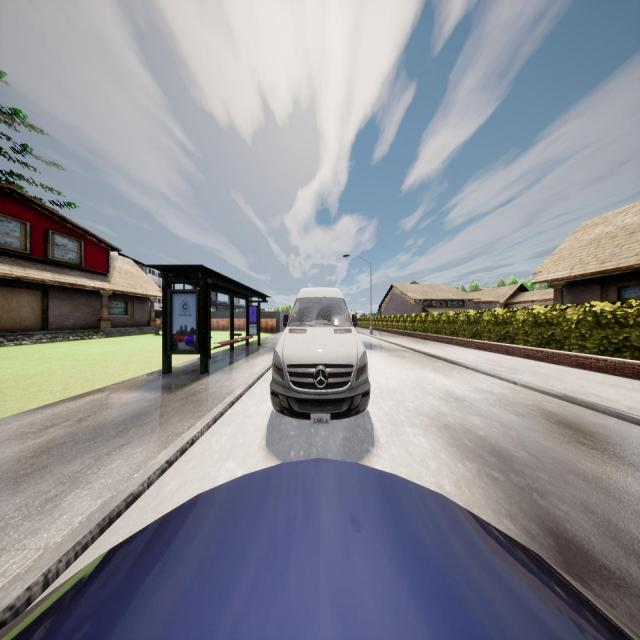Vehicle: (1, 457, 640, 640), (270, 287, 370, 419)
